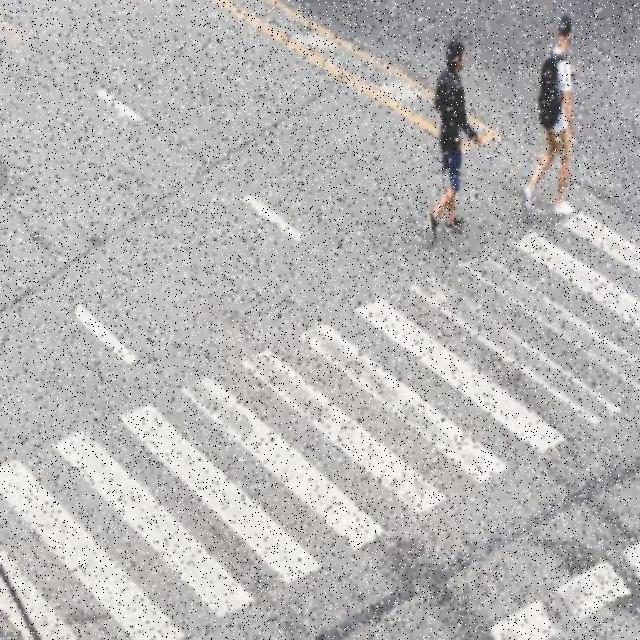Pedestrian crosswalk: (2, 202, 639, 639)
